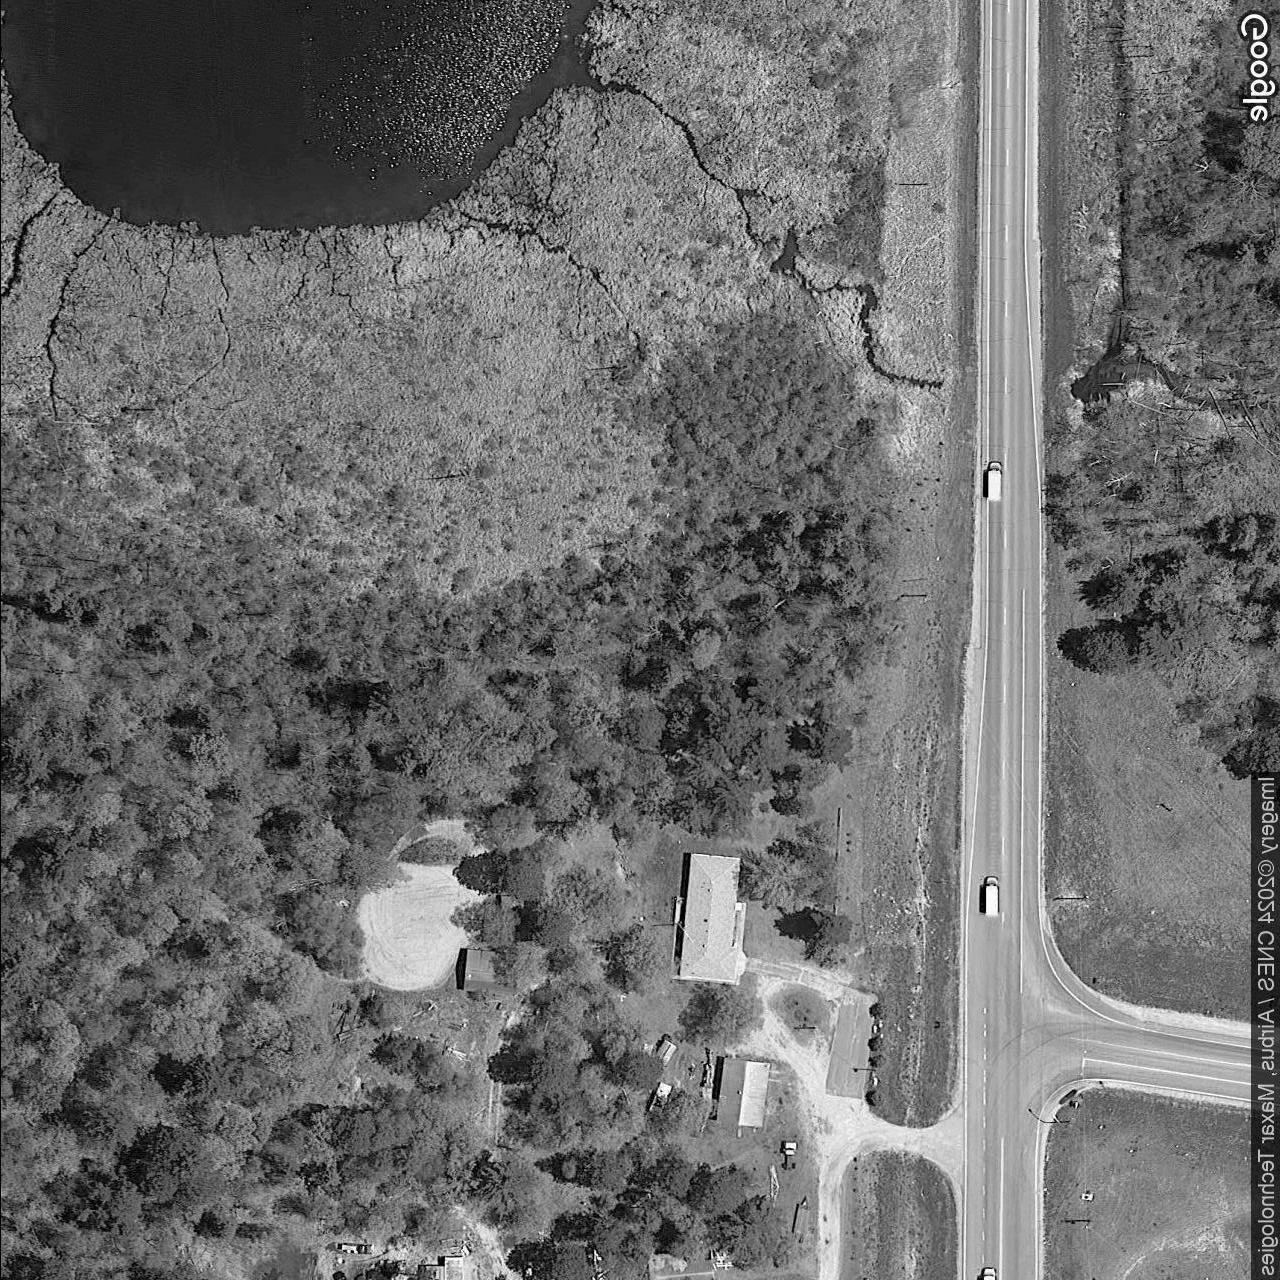Garage: (715, 1056, 771, 1130)
House: (678, 851, 740, 983), (462, 948, 519, 996)
